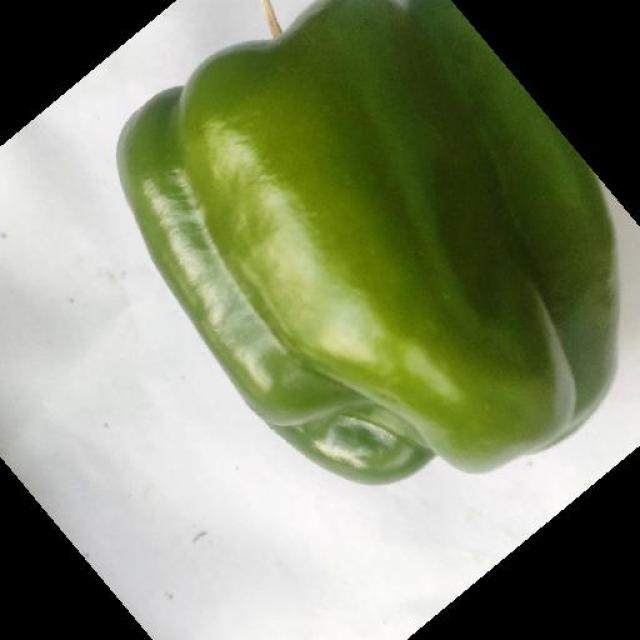Fresh_Capsicum: (111, 5, 640, 479)
